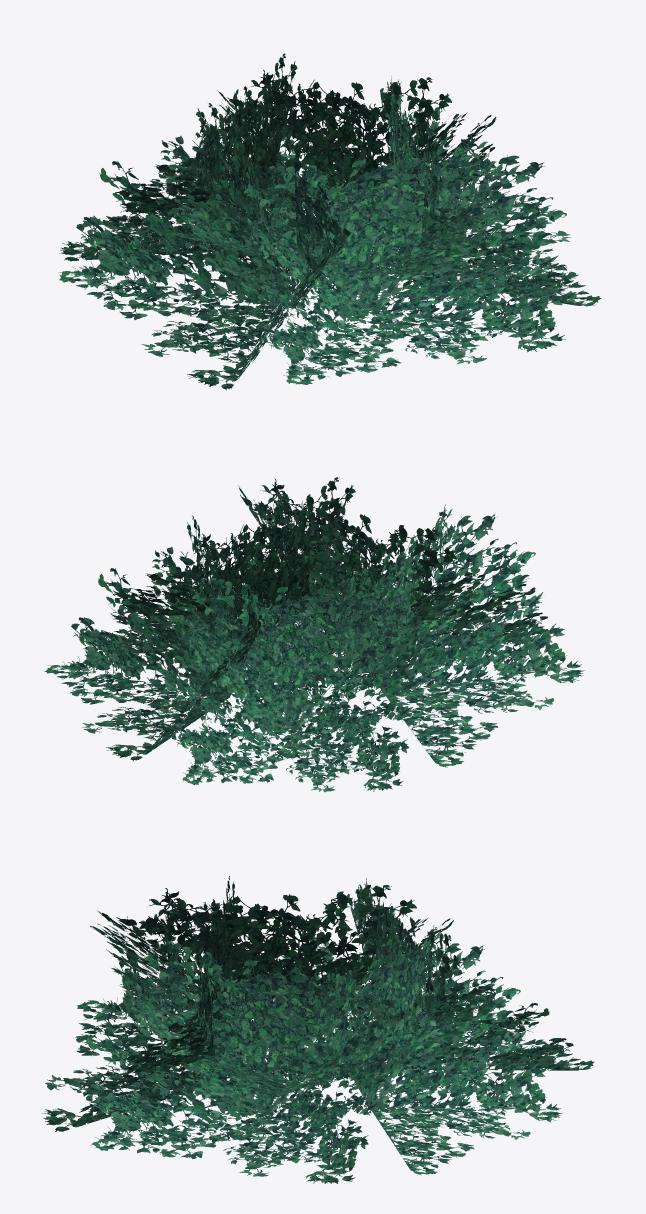
Rendered from shrb_giantlickbush_blue_l2.fbx.
The picture shows the model from 3 angles, top to bottom: view 1: azimuth 30°, elevation 25°; view 2: azimuth 150°, elevation 25°; view 3: azimuth 270°, elevation 25°; orthographic projection. The views are drawn at different scales.
Parts seen in each view (by area): view 1: mesh_node; view 2: mesh_node; view 3: mesh_node.
Boxes of the visible parts, x1=… form: mesh_node: x1=59, y1=53, x2=601, y2=390; mesh_node: x1=44, y1=477, x2=584, y2=792; mesh_node: x1=41, y1=876, x2=594, y2=1183.
Bounding box in the file's own units: 6.53 × 2.31 × 7.23.
